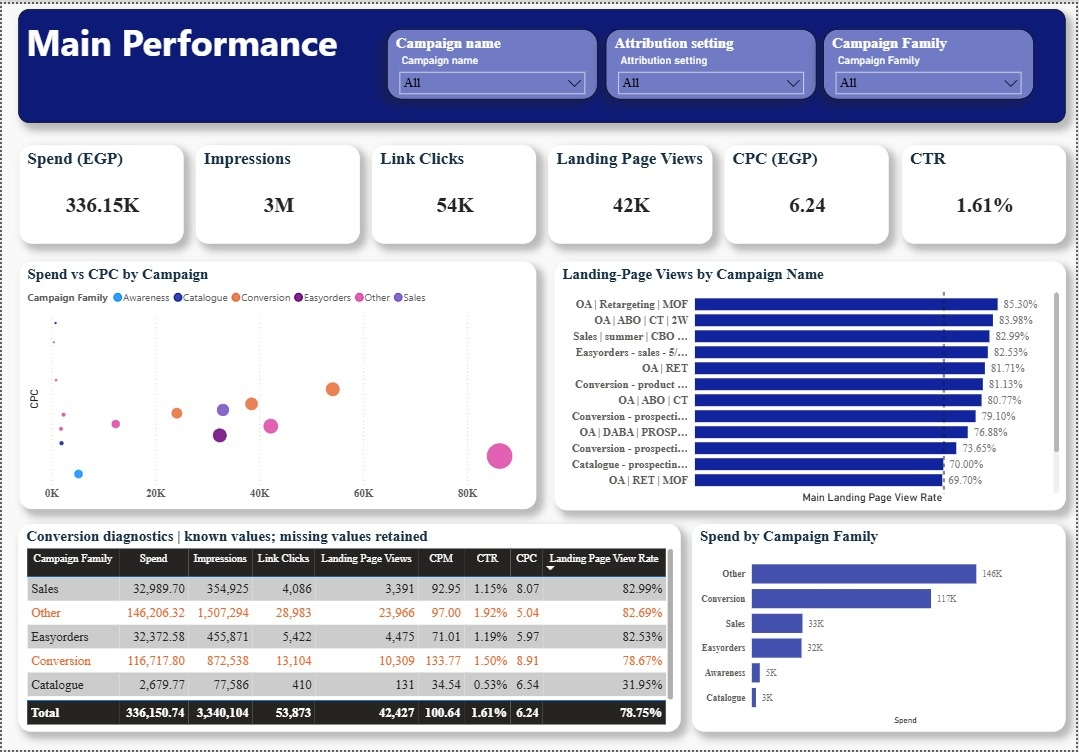

The dashboard page shown, as its layout file describes it:
{"tool":"powerbi","page":{"name":"Main","canvas":[1440,1000],"ordinal":0},"visuals":[{"type":"textbox","box":[21.8,6.7,1404.2,152.5],"z":0,"group":"g4"},{"type":"group","id":"g1","title":"Group 2","box":[23.5,189.3,1402.5,132.4],"z":0},{"type":"group","id":"g2","title":"Group 1","box":[740.3,345.2,685.7,333.4],"z":0,"group":"g5"},{"type":"group","id":"g3","title":"Group 3","box":[515.6,33.2,867.5,94.5],"z":1000,"group":"g4"},{"type":"slicer","title":"Campaign name","fields":{"Values":["Main.Campaign name"]},"box":[515.6,33.2,282.5,94.5],"z":1000,"group":"g3"},{"type":"tableEx","title":"Conversion diagnostics | known values; missing values retained","fields":{"Values":["Main.Campaign Family","Main.Main Spend","Main.Main Impressions","Main.Main Link Clicks","Main.Main Landing Page Views","Main.Main CPM","Main.Main CTR","Main.Main CPC","Main.Main Landing Page View Rate"]},"box":[21.8,697.1,888.1,278.2],"z":1000,"group":"g6"},{"type":"group","id":"g4","title":"Group 5","box":[21.8,6.7,1404.2,152.5],"z":2000},{"type":"slicer","title":"Attribution setting","fields":{"Values":["Main.Attribution setting"]},"box":[808.1,33.2,282.5,94.5],"z":2000,"group":"g3"},{"type":"barChart","fields":{"Category":["Main.Campaign Family"],"Y":["Main.Main Spend"]},"box":[925,697.1,500.6,278.2],"z":2000,"group":"g6"},{"type":"slicer","title":"Campaign Family","fields":{"Values":["Main.Campaign Family"]},"box":[1100.7,33.2,282.5,94.5],"z":3000,"group":"g3"},{"type":"group","id":"g5","title":"Group 6","box":[23.5,345.2,1402.5,333.4],"z":3000},{"type":"scatterChart","title":"Spend vs CPC by Campaign","fields":{"Category":["Main.Campaign name"],"Series":["Main.Campaign Family"],"Size":["Main.Main Link Clicks"],"X":["Main.Main Spend"],"Y":["Main.Main CPC"]},"box":[23.5,345.2,692.6,331.8],"z":3001,"group":"g5"},{"type":"card","title":"Spend (EGP)","fields":{"Values":["Main.Main Spend"]},"box":[23.5,189.3,220.2,132.4],"z":4000,"group":"g1"},{"type":"card","title":"Impressions","fields":{"Values":["Main.Main Impressions"]},"box":[260,189.3,220.2,132.4],"z":5000,"group":"g1"},{"type":"card","title":"Link Clicks","fields":{"Values":["Main.Main Link Clicks"]},"box":[496.4,189.3,220.2,132.4],"z":6000,"group":"g1"},{"type":"card","title":"Landing Page Views","fields":{"Values":["Main.Main Landing Page Views"]},"box":[732.9,189.3,220.2,132.4],"z":7000,"group":"g1"},{"type":"card","title":"CPC (EGP)","fields":{"Values":["Main.Main CPC"]},"box":[969.4,189.3,220.2,132.4],"z":8000,"group":"g1"},{"type":"group","id":"g6","title":"Group 4","box":[21.8,697.1,1403.8,278.2],"z":8001},{"type":"card","title":"CTR","fields":{"Values":["Main.Main CTR"]},"box":[1205.8,189.3,220.2,132.4],"z":9000,"group":"g1"},{"type":"clusteredBarChart","title":"Landing-Page Views by Campaign Name ","fields":{"Category":["Main.Campaign name"],"Y":["Main.Main Landing Page View Rate"]},"box":[740.3,345.2,685.7,333.4],"z":12000,"group":"g2"}]}

Visuals, with their boxes in screenshot pixels (x1, y1, x2, y2), scaled from the page's 1440x1000 canvas onto the 1079x752 screenshot:
textbox: (16, 5, 1069, 120)
"Group 2" group: (18, 142, 1069, 242)
"Group 1" group: (555, 260, 1069, 510)
"Group 3" group: (386, 25, 1036, 96)
"Campaign name" slicer: (386, 25, 598, 96)
"Conversion diagnostics | known values; missing values retained" tableEx: (16, 524, 682, 733)
"Group 5" group: (16, 5, 1069, 120)
"Attribution setting" slicer: (606, 25, 817, 96)
barChart - Main.Campaign Family x Main.Main Spend: (693, 524, 1068, 733)
"Campaign Family" slicer: (825, 25, 1036, 96)
"Group 6" group: (18, 260, 1069, 510)
"Spend vs CPC by Campaign" scatterChart: (18, 260, 537, 509)
"Spend (EGP)" card: (18, 142, 183, 242)
"Impressions" card: (195, 142, 360, 242)
"Link Clicks" card: (372, 142, 537, 242)
"Landing Page Views" card: (549, 142, 714, 242)
"CPC (EGP)" card: (726, 142, 891, 242)
"Group 4" group: (16, 524, 1068, 733)
"CTR" card: (904, 142, 1069, 242)
"Landing-Page Views by Campaign Name " clusteredBarChart: (555, 260, 1069, 510)
